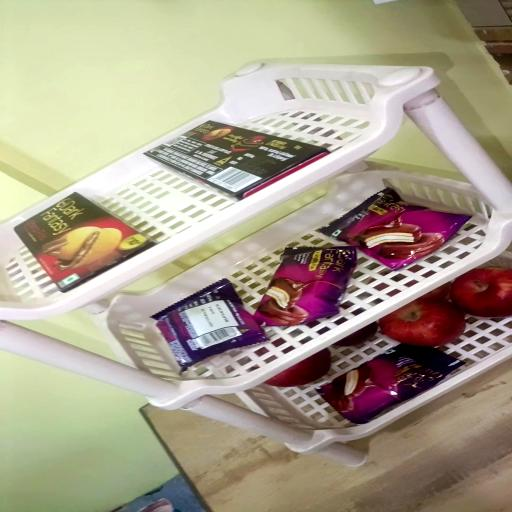Apple: (378, 299, 464, 348), (450, 269, 510, 319), (265, 349, 332, 387), (331, 323, 377, 347), (413, 283, 452, 301)
Choco Fills: (144, 119, 330, 199), (14, 194, 157, 294)
Choco Pie: (318, 188, 471, 273), (319, 345, 463, 424), (154, 280, 268, 372), (255, 245, 358, 327)
